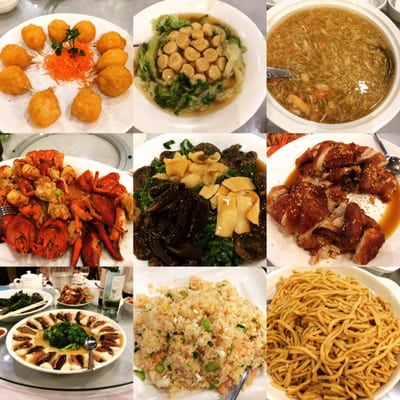curry: (154, 73, 223, 115), (220, 143, 257, 180), (199, 238, 240, 267), (44, 322, 88, 349)
salad: (267, 66, 296, 80)
sushi: (266, 134, 400, 274), (266, 0, 400, 133), (131, 0, 266, 131), (5, 307, 128, 377), (0, 0, 20, 15)
